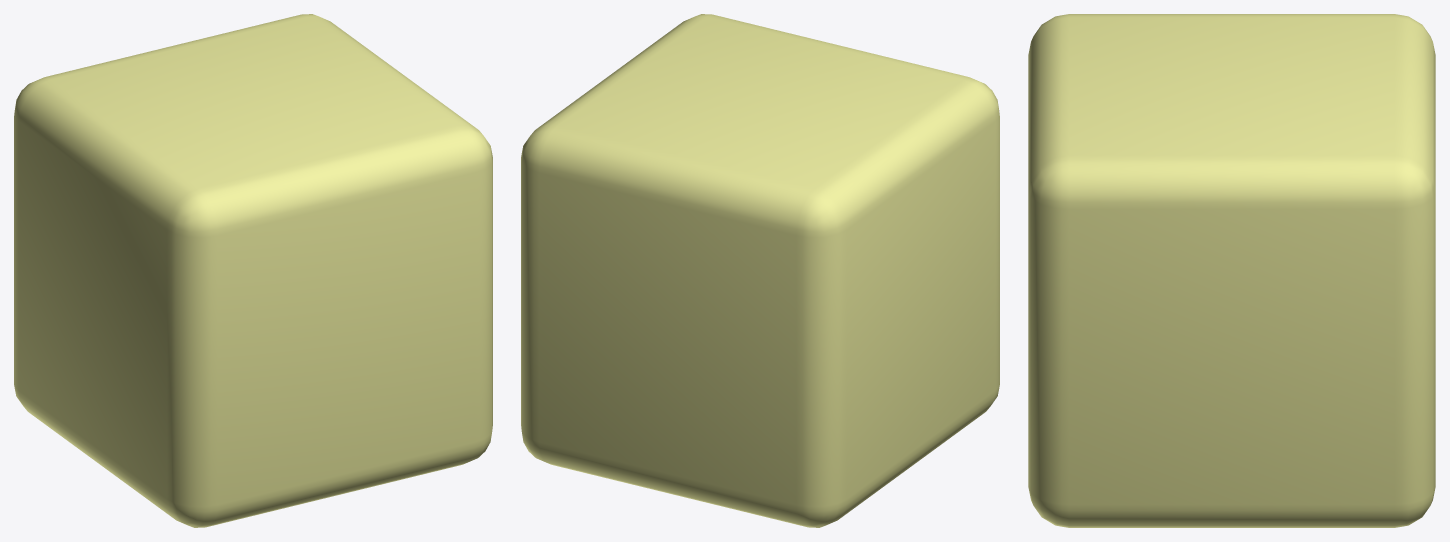
The model's file is Roundcube.gltf.
3 views of the same model, side by side, from view 1: azimuth 30°, elevation 25°; view 2: azimuth 150°, elevation 25°; view 3: azimuth 270°, elevation 25° (orthographic). The views are drawn at different scales.
Visible parts, largest first — view 1: Roundcube; view 2: Roundcube; view 3: Roundcube.
Boxes of the visible parts, x1,y1,x2,y2 form: Roundcube: (14,14,492,527); Roundcube: (521,14,999,527); Roundcube: (1028,14,1435,527).
Bounding box in the file's own units: 2 × 2 × 2.
